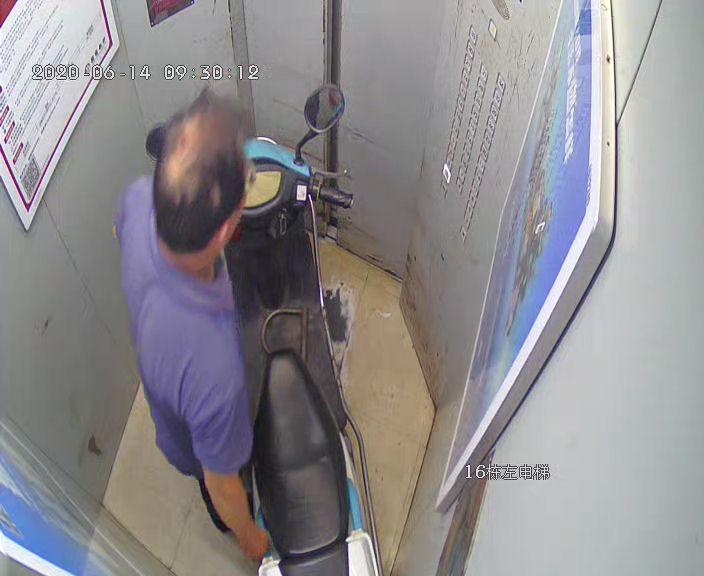Electric-bicycle: (146, 85, 372, 576)
